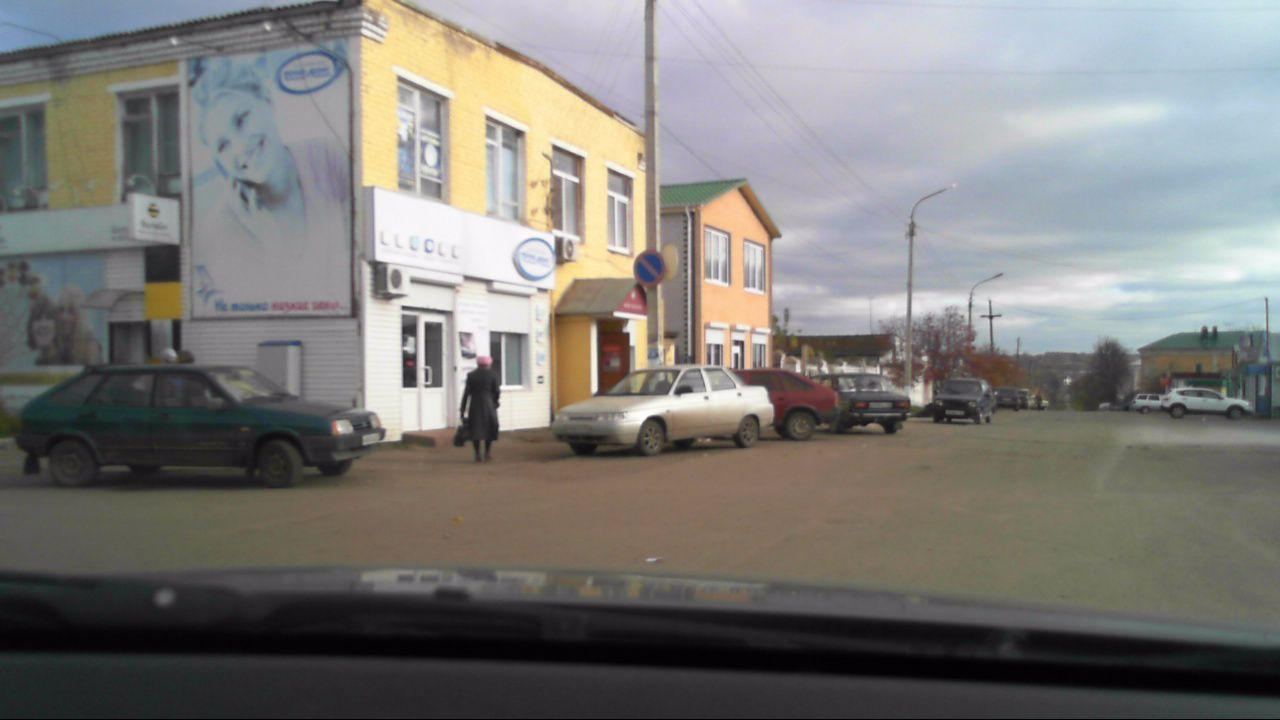3_28: (628, 249, 666, 289)
